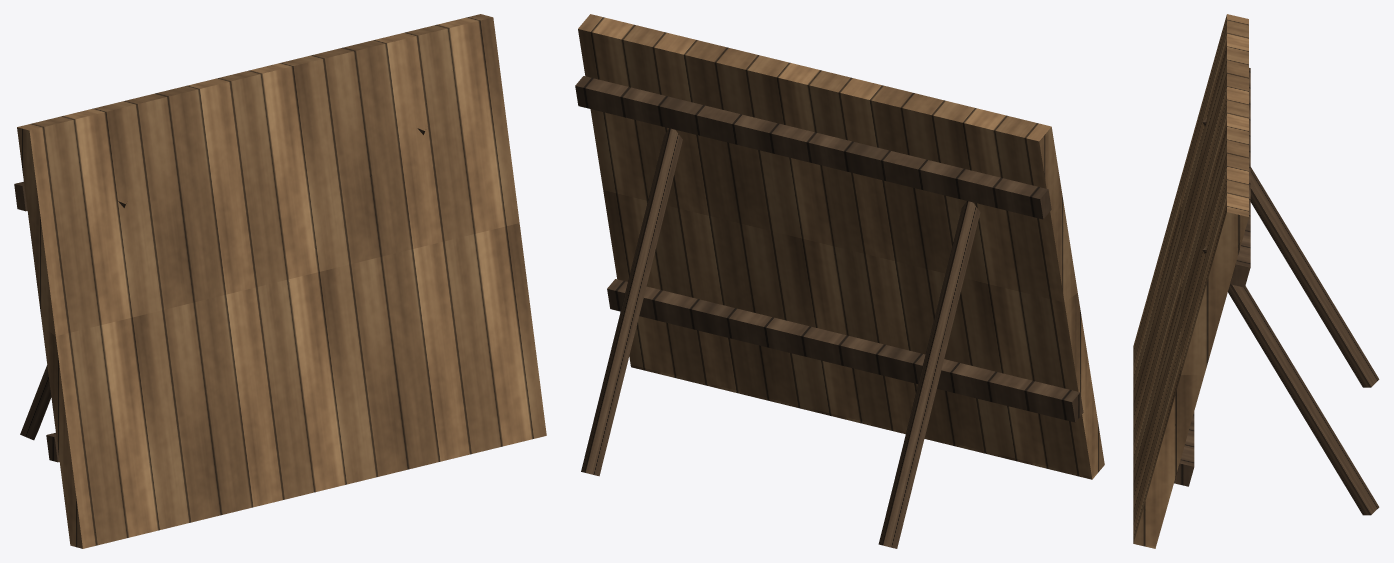
Rendered from Mantlet_1_LOD2.gltf.
The picture shows the model from 3 angles, left to right: view 1: azimuth 30°, elevation 25°; view 2: azimuth 150°, elevation 25°; view 3: azimuth 270°, elevation 25°; orthographic projection. The views are drawn at different scales.
Visible parts, largest first — view 1: Mantlet_1_LOD2; view 2: Mantlet_1_LOD2; view 3: Mantlet_1_LOD2.
Part boxes in pixels (left/top/right/bottom): Mantlet_1_LOD2: left=14, top=14, right=546, bottom=548; Mantlet_1_LOD2: left=575, top=14, right=1104, bottom=548; Mantlet_1_LOD2: left=1133, top=14, right=1379, bottom=548.
Size of the model in its own units: 2.5 by 1.98 by 1.3.
2 materials, 2 textured.
